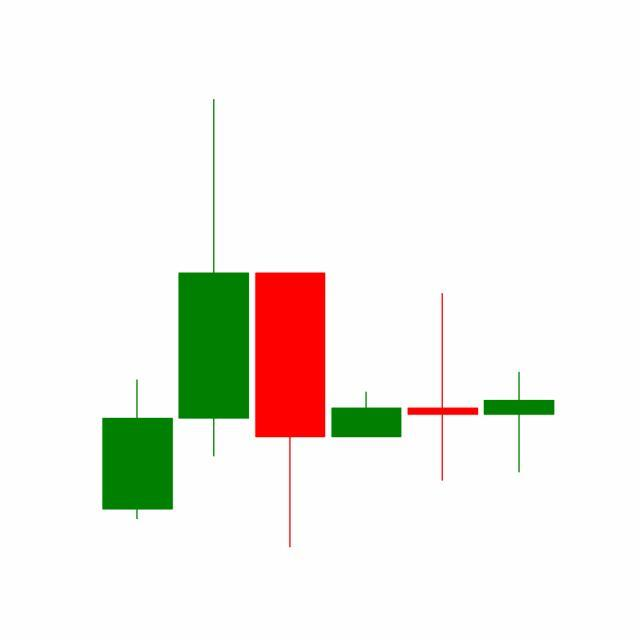Spinning Top: (404, 291, 482, 483)
